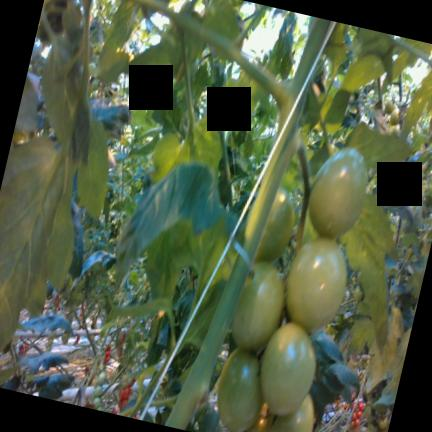6kp_peduncle: (263, 99, 310, 203)
6kp_petiole: (238, 41, 322, 159)
MainStem: (166, 19, 332, 428)
tomato: (286, 238, 347, 330), (309, 148, 367, 238), (260, 322, 316, 415), (232, 262, 284, 350), (218, 348, 263, 432), (255, 188, 294, 261), (246, 394, 314, 432), (353, 285, 364, 303), (364, 401, 372, 423), (390, 108, 400, 125), (384, 100, 395, 113), (377, 416, 388, 429), (97, 371, 106, 385), (92, 385, 102, 397), (391, 124, 400, 136), (367, 422, 377, 432), (123, 386, 130, 398), (93, 397, 100, 408)
